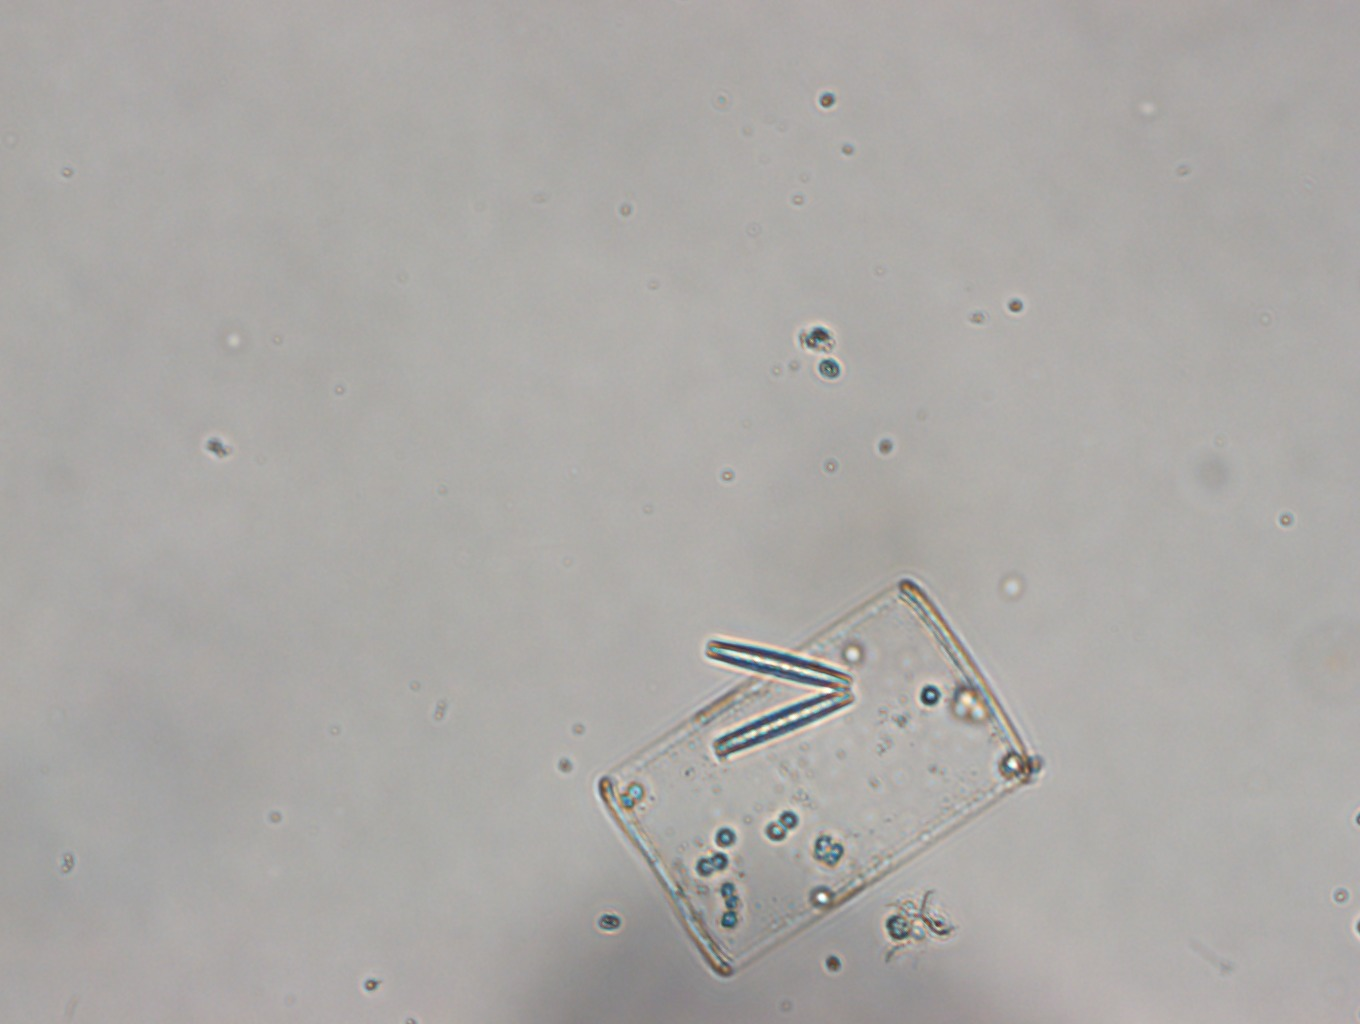guinardia flaccida: (589, 577, 1040, 990)
thalassionema frauenfeldii: (698, 622, 858, 770)
